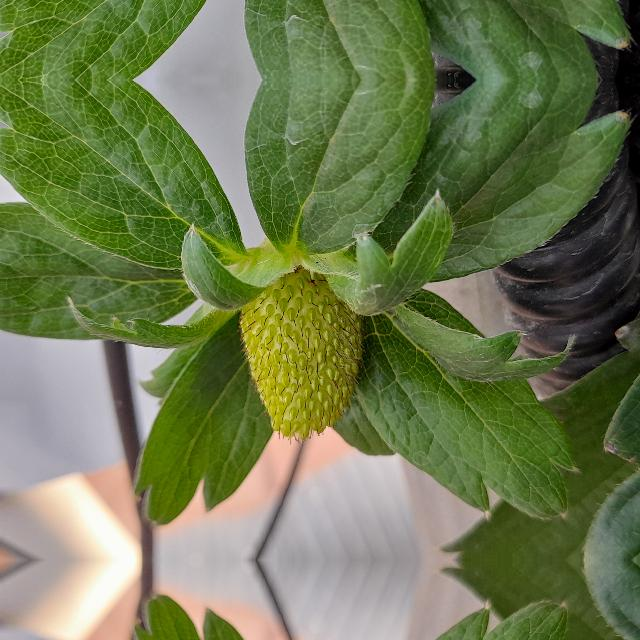Health_25: (236, 248, 366, 444)
